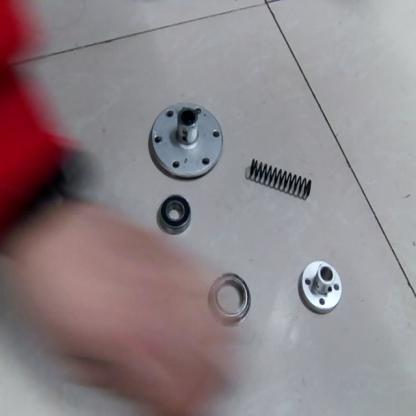FOD: (0, 2, 415, 414), (146, 101, 224, 182), (246, 155, 316, 202), (296, 256, 344, 319), (210, 269, 256, 326), (159, 189, 194, 239)
